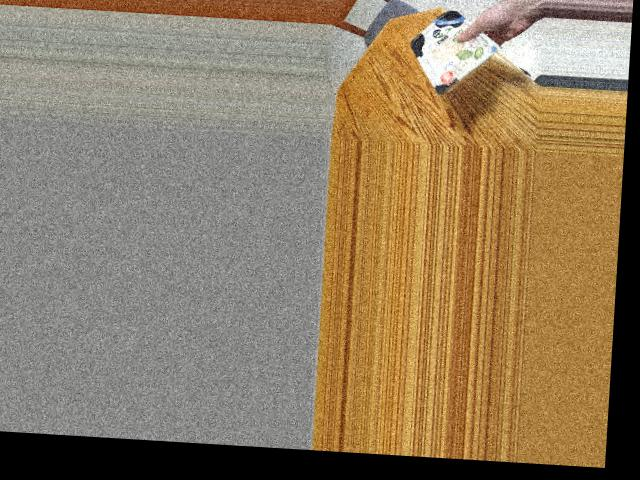cheese: (410, 19, 493, 85)
